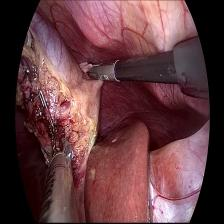Clipper: (47, 136, 76, 176)
Grasper: (81, 58, 122, 88)
